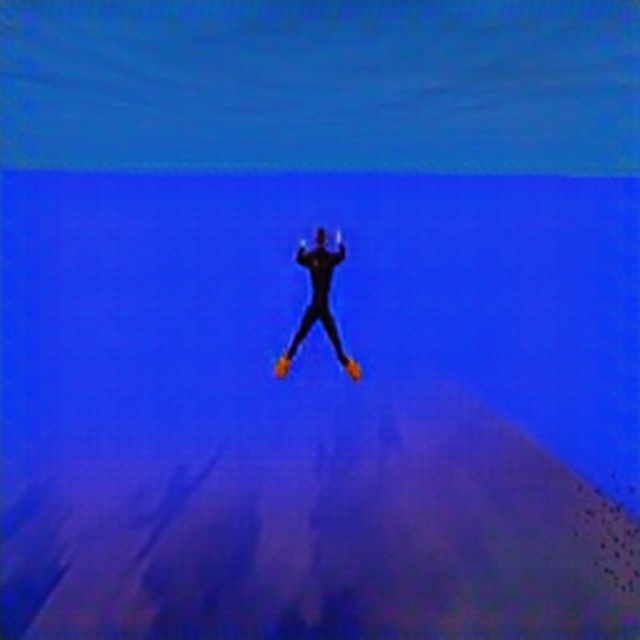diver: (273, 222, 363, 386)
